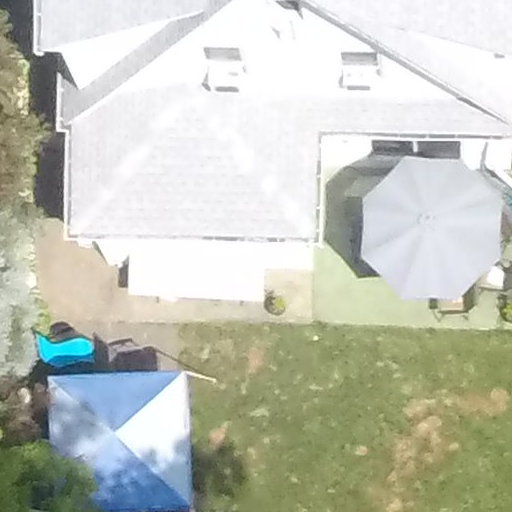flower pot: (264, 291, 290, 320)
tent: (40, 350, 232, 512)
umbrella: (340, 151, 508, 317)
